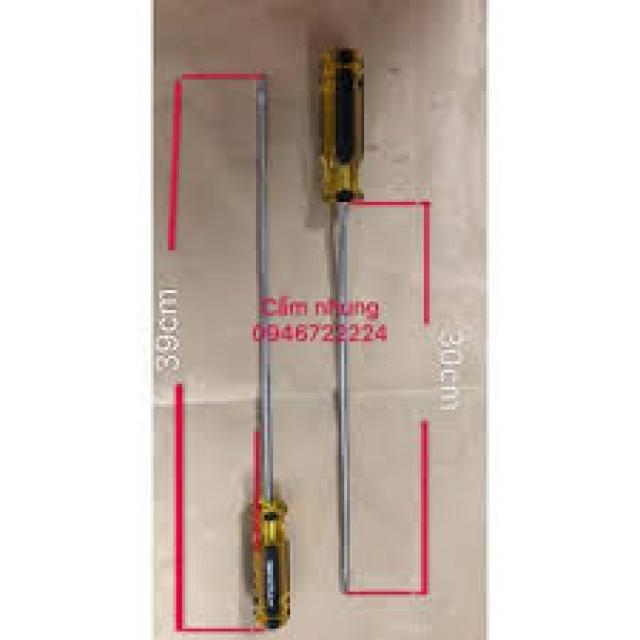screwdriver: (313, 44, 373, 596), (246, 70, 289, 630)
